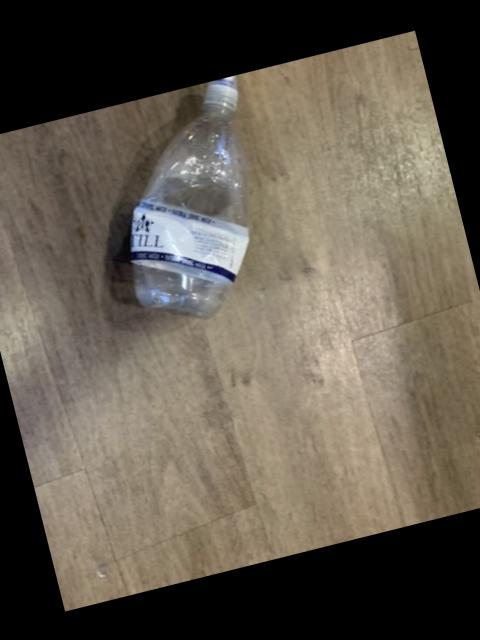plastic: (132, 74, 250, 314)
